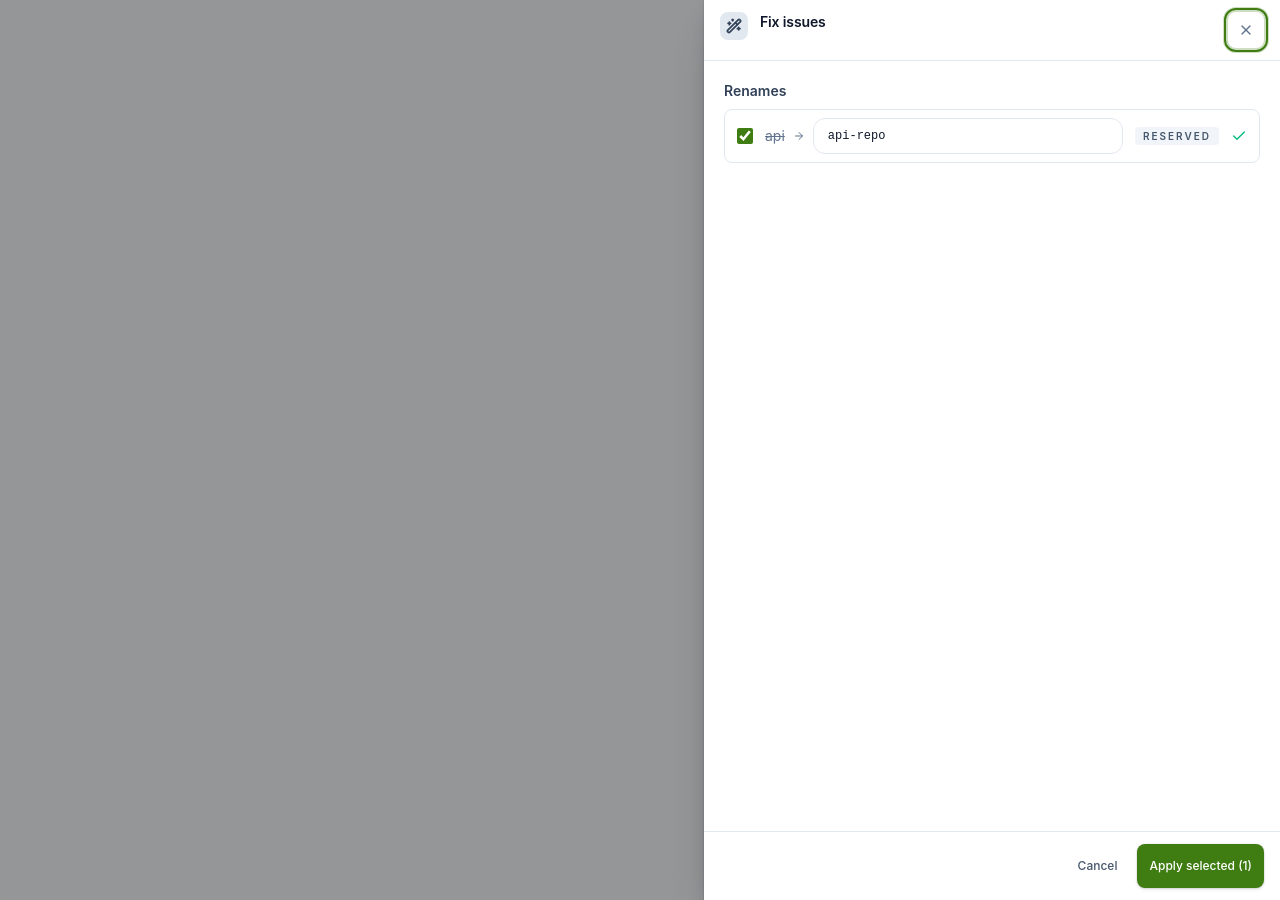
Test: AutoFixDrawer › Apply selected is disabled when nothing is checked
What coordinates should you click on to do the following:
click the checkbox named "Apply fix for api"
I would click on:
 (745, 136)
Its box is [737, 128, 753, 144].
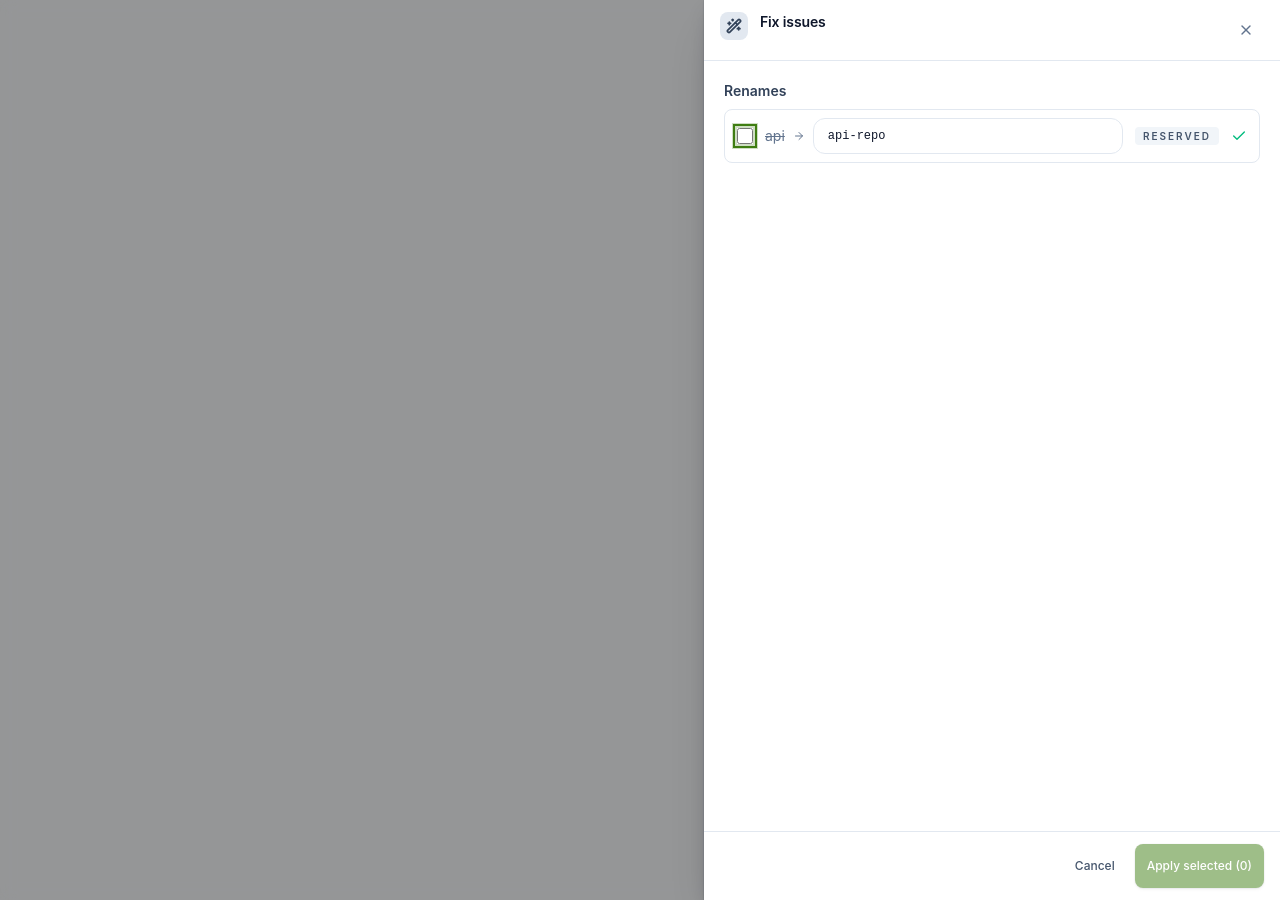
Expected: the button "Apply selected (0)" is disabled, [1135, 844, 1264, 888]
